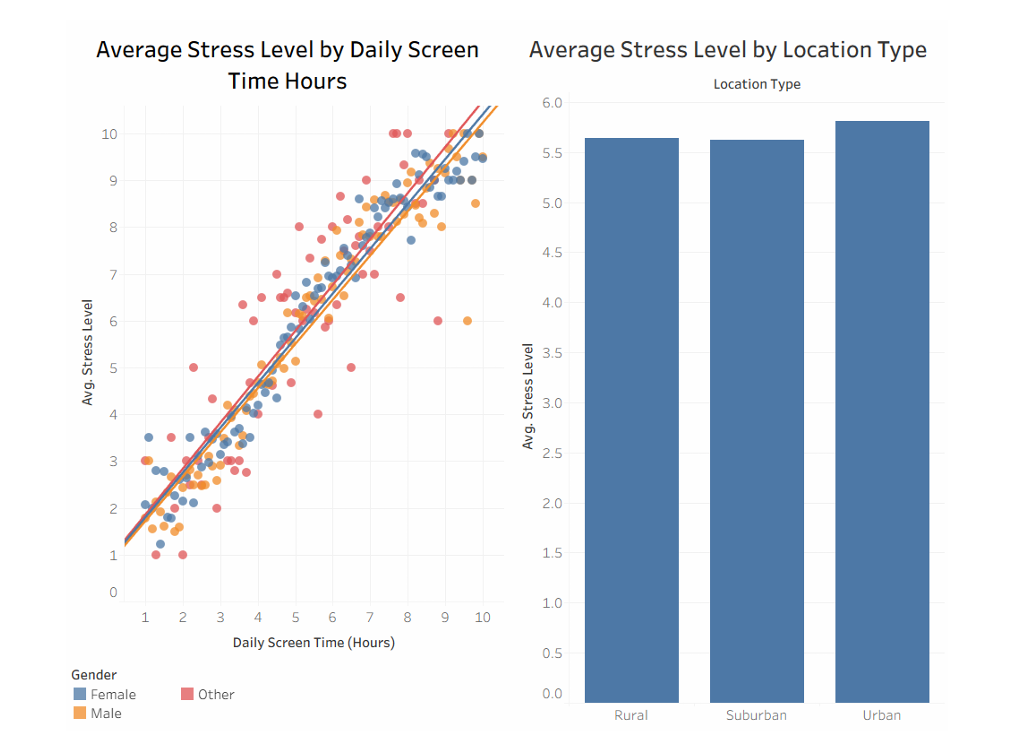

The dashboard page shown, as its layout file describes it:
{"tool":"tableau","page":{"name":"Dashboard 1","canvas":[1000,800],"ordinal":0},"visuals":[{"type":"worksheet","title":"Average Stress Level by Daily Screen Time Hours","mark":"Circle","rows":["stress_level"],"cols":["daily_screen_time_hours"],"box":[8,8,492,709]},{"type":"worksheet","title":"Average Stress Level by Location Type","mark":"Automatic","rows":["stress_level"],"cols":["location_type"],"box":[500,8,492,784]},{"type":"legend","title":"Average Stress Level by Daily Screen Time Hours","param":"[federated.1qfsr8w1007azy12gvdld18c7kid].[none:gender:nk]","box":[8,717,492,75]}]}

Visuals, with their boxes on the page's 1000x800 design canvas (x1, y1, x2, y2). These are canvas units, not pixel positions in the 1033x749 screenshot, which may show the page scaled, cropped or inside an application window:
"Average Stress Level by Daily Screen Time Hours" worksheet (Circle marks): rect(8, 8, 500, 717)
"Average Stress Level by Location Type" worksheet: rect(500, 8, 992, 792)
"Average Stress Level by Daily Screen Time Hours" legend: rect(8, 717, 500, 792)
